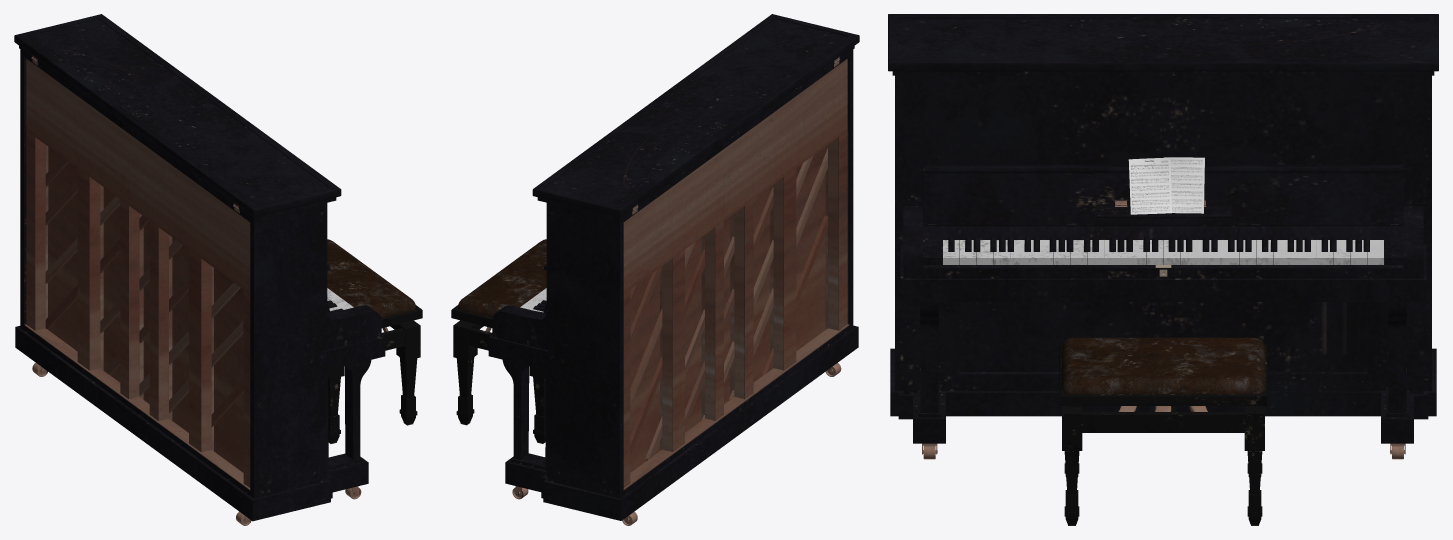
3 renders of one model, left to right at view 1: azimuth 30°, elevation 25°; view 2: azimuth 150°, elevation 25°; view 3: azimuth 270°, elevation 25°, orthographic. The views are drawn at different scales.
Visible parts, largest first — view 1: Frame, Top, Wood_thingy, Cussion, Feets; view 2: Frame, Top, Wood_thingy, Cussion, Feets; view 3: Frame, Top, Lid, Cussion, White_keys, Feets, Black_keys, Cussion_frame, Plane, Plane.1, Note_stand.
Boxes of the visible parts, box(x1,y1,x2,y2) form: Frame: box(15, 49, 385, 521); Top: box(14, 14, 341, 220); Wood_thingy: box(45, 157, 243, 427); Cussion: box(327, 239, 415, 317); Feets: box(328, 320, 420, 443); Frame: box(488, 49, 858, 520); Top: box(532, 14, 859, 220); Wood_thingy: box(630, 148, 828, 460); Cussion: box(458, 239, 546, 317); Feets: box(453, 320, 545, 443); Frame: box(890, 75, 1436, 443); Top: box(888, 14, 1438, 75); Lid: box(923, 164, 1403, 224); Cussion: box(1061, 337, 1265, 393); White_keys: box(943, 240, 1383, 264); Feets: box(1062, 406, 1264, 525); Black_keys: box(948, 237, 1369, 262); Cussion_frame: box(1059, 344, 1267, 405); Plane: box(1128, 157, 1171, 214); Plane.1: box(1164, 157, 1204, 213); Note_stand: box(1095, 200, 1231, 218).
Size of the model in its own units: 1.12 by 1.45 by 1.91.
Materials: 3 (3 with a texture image).
